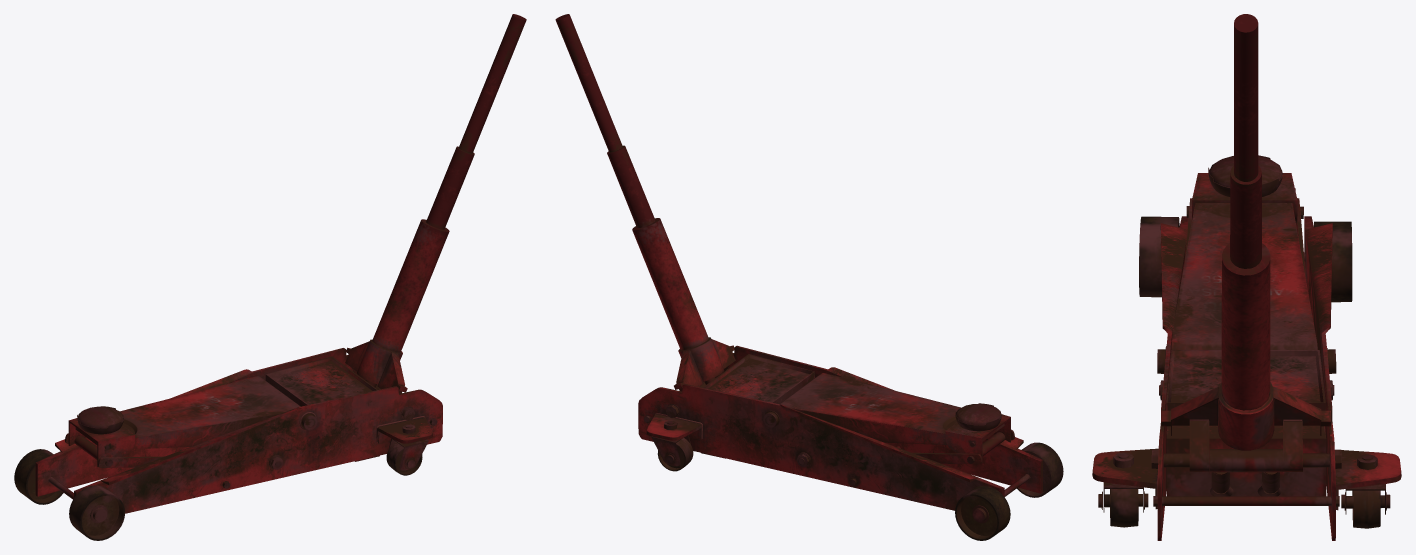
File: car_jack (1).glb
3 renders of one model, left to right at view 1: azimuth 30°, elevation 25°; view 2: azimuth 150°, elevation 25°; view 3: azimuth 270°, elevation 25°, orthographic. The views are drawn at different scales.
Visible parts, largest first — view 1: Object_2, Object_4, Object_3, Object_6; view 2: Object_2, Object_4, Object_3, Object_6; view 3: Object_2, Object_4, Object_3, Object_6.
Part boxes in pixels (box(x1,y1,x2,y2)): Object_2: box(35, 14, 526, 513); Object_4: box(14, 442, 422, 540); Object_3: box(90, 406, 437, 523); Object_6: box(77, 406, 123, 434); Object_2: box(555, 14, 1042, 510); Object_4: box(657, 438, 1063, 540); Object_3: box(644, 404, 989, 523); Object_6: box(955, 403, 1001, 431); Object_2: box(1092, 14, 1401, 540); Object_4: box(1104, 216, 1384, 528); Object_3: box(1098, 188, 1390, 514); Object_6: box(1208, 155, 1282, 493).
Bounding box in the file's own units: 1.16 × 0.9148 × 0.4071.
5 materials, 5 textured.
